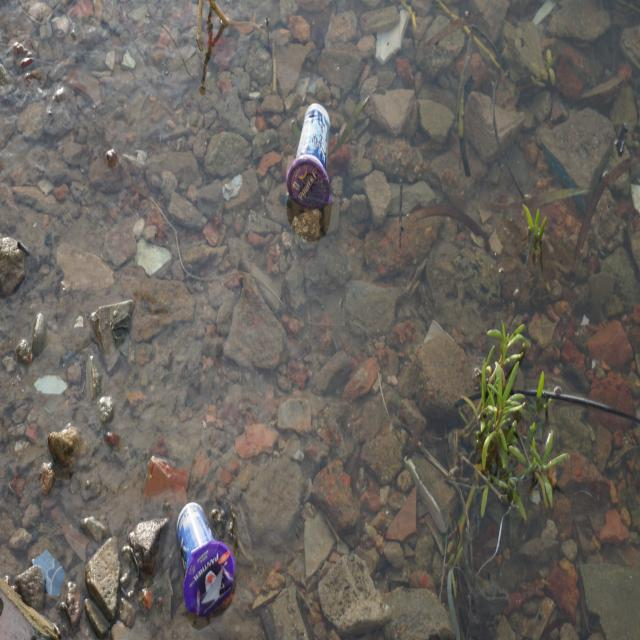Bungkus Minuman: (172, 501, 238, 619), (287, 101, 335, 212)
